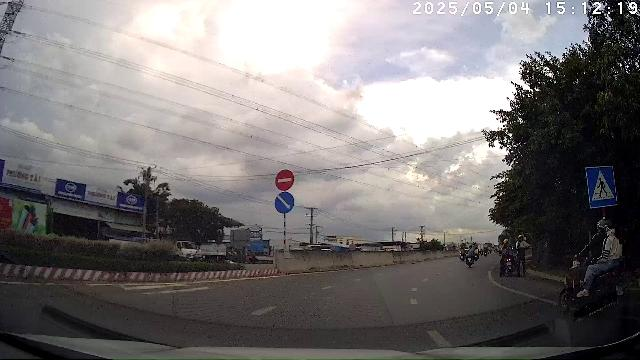102-cam-di-nguoc-chieu: (275, 169, 296, 191)
302a-huong-phai-di-vong-chuong-ngai-vat-1: (274, 192, 295, 214)
423a-duong-nguoi-di-bo-sang-ngang-1: (587, 166, 616, 207)
